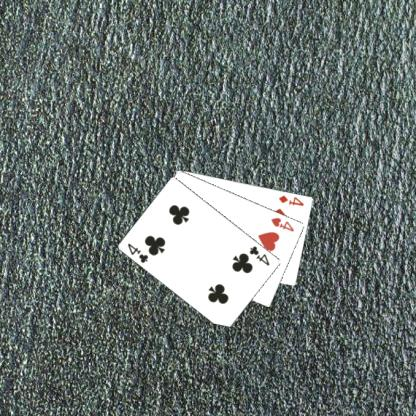4C: (125, 240, 150, 264), (247, 243, 271, 267)
4D: (276, 192, 306, 207)
4H: (268, 215, 296, 233)
